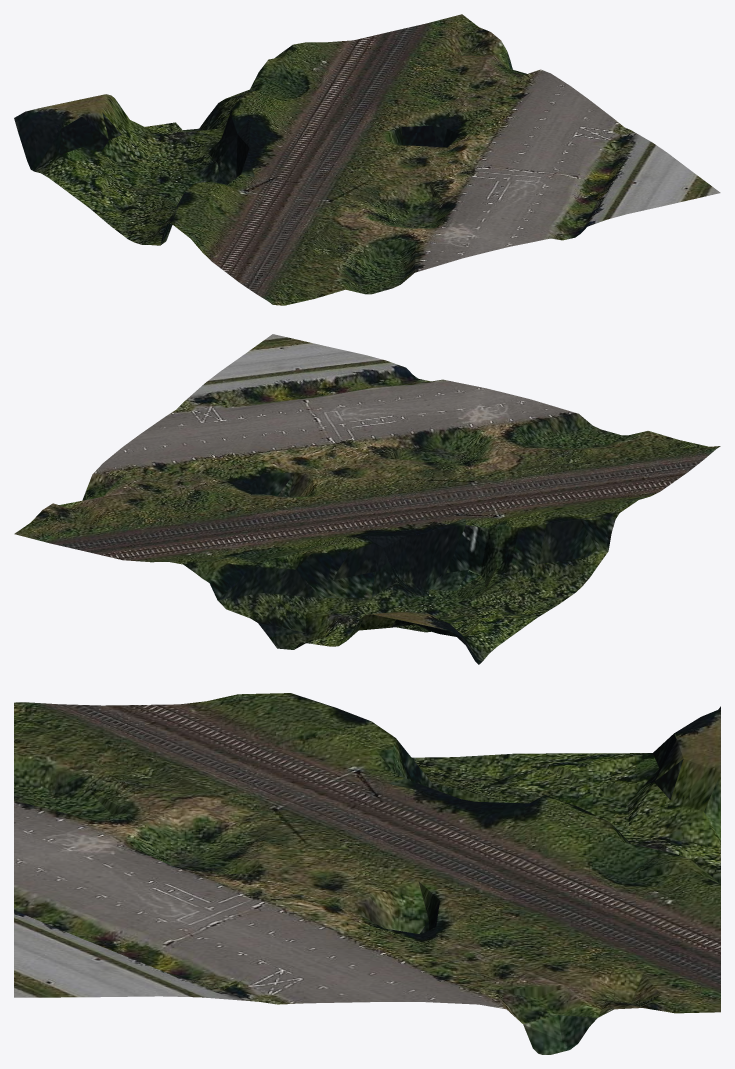
File: map_15_8181_13786.dae
The picture shows the model from 3 angles, top to bottom: view 1: azimuth 30°, elevation 25°; view 2: azimuth 150°, elevation 25°; view 3: azimuth 270°, elevation 25°; orthographic projection. The views are drawn at different scales.
Visible parts, largest first — view 1: Ter0; view 2: Ter0; view 3: Ter0.
Part boxes in pixels (x1=…): Ter0: x1=14, y1=14, x2=720, y2=305; Ter0: x1=14, y1=334, x2=720, y2=664; Ter0: x1=14, y1=693, x2=720, y2=1054.
Size of the model in its own units: 63.87 by 63.88 by 9.24.
3 materials, 3 textured.
